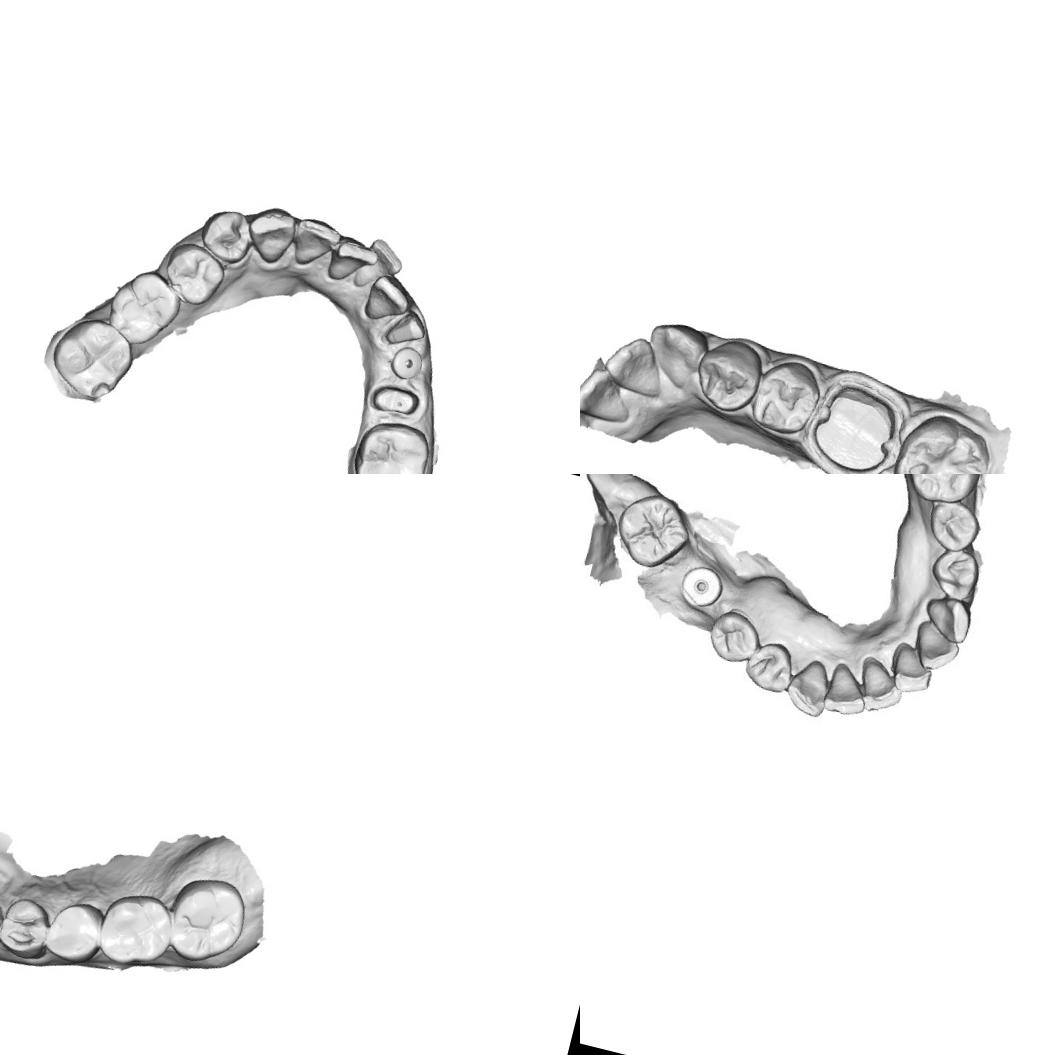canine: (636, 314, 712, 396), (238, 200, 302, 269), (782, 650, 840, 720), (922, 594, 976, 642)
crown: (804, 375, 906, 474), (362, 375, 430, 424), (380, 302, 430, 352)
implant: (675, 564, 726, 612), (382, 340, 431, 386)
incisor: (596, 328, 672, 400), (580, 360, 641, 429), (283, 211, 344, 276), (351, 230, 408, 296), (357, 270, 415, 332), (322, 232, 380, 292), (910, 620, 962, 674), (852, 656, 904, 710), (823, 662, 869, 715), (886, 644, 934, 694)
molar: (42, 308, 142, 409), (158, 868, 254, 972), (90, 881, 179, 976), (100, 260, 188, 356), (884, 405, 1000, 474), (612, 490, 694, 570), (343, 413, 439, 474), (900, 474, 984, 506)
premolar: (744, 352, 826, 442), (688, 331, 768, 419), (156, 238, 230, 312), (38, 892, 109, 968), (192, 202, 260, 270), (0, 891, 56, 962), (702, 610, 758, 667), (928, 546, 983, 602), (742, 640, 793, 694), (929, 500, 979, 548)
